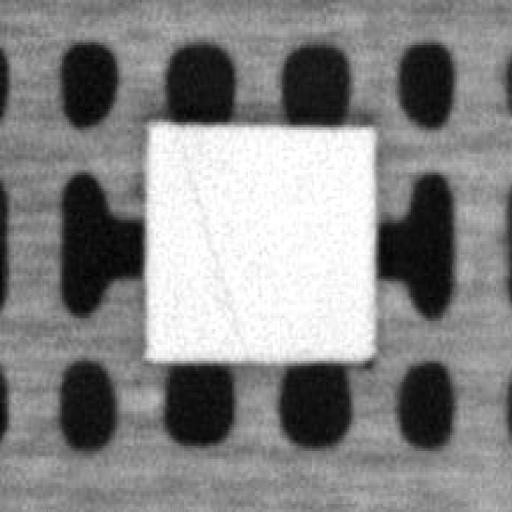DIE_CRACK: (177, 133, 243, 342)
